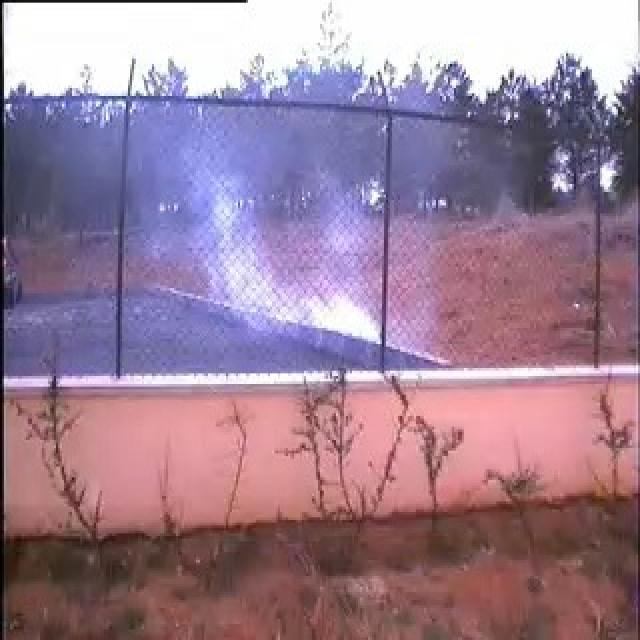smoke: (146, 119, 380, 345)
